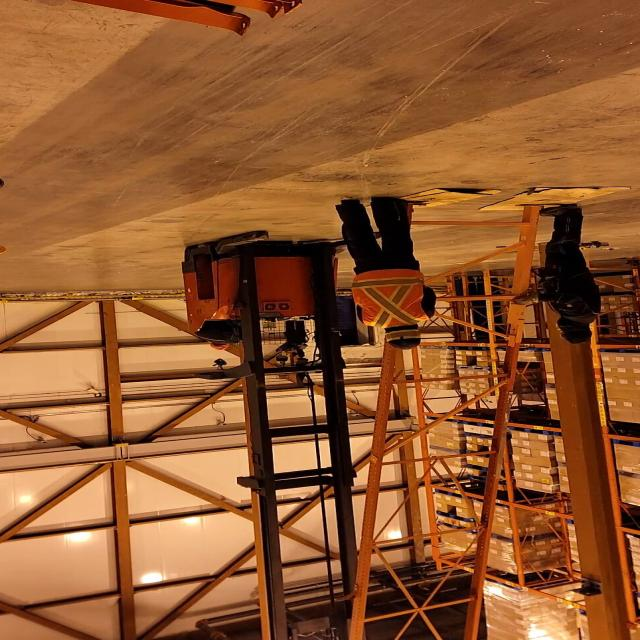forklift: (178, 227, 386, 493)
human: (329, 195, 439, 351), (507, 200, 610, 346), (189, 314, 270, 356)
objectofinterest: (334, 201, 558, 640), (470, 185, 638, 217), (374, 189, 498, 210)
